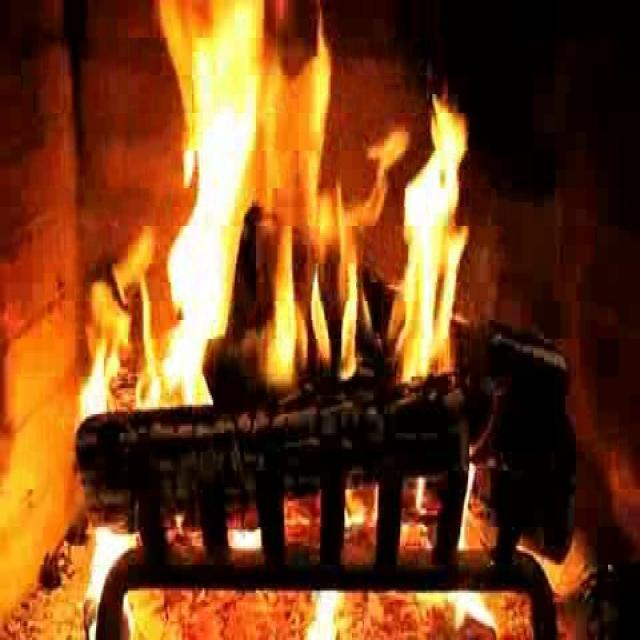Fire: (136, 12, 463, 426)
